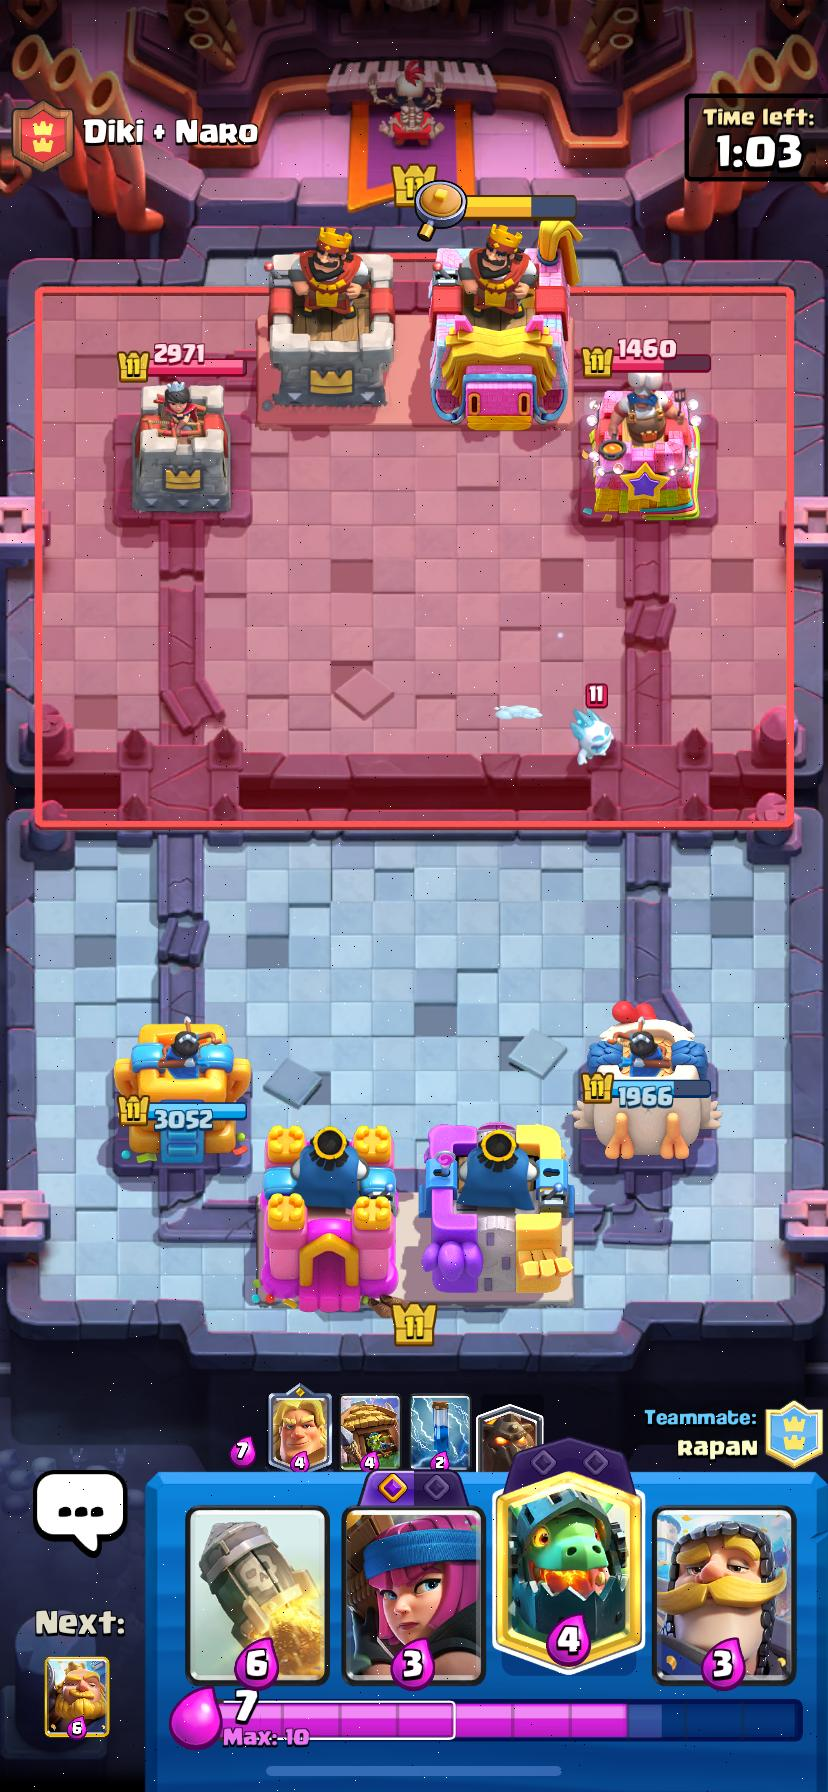EIceSpirit: (571, 682, 621, 771)
EKingTower: (430, 224, 570, 431), (262, 227, 395, 411)
EnemyPanTower: (580, 374, 701, 521)
EnemyPrincessTower: (133, 379, 230, 515)
OwnKingTower: (422, 1122, 573, 1299), (258, 1126, 396, 1312)
OwnPrincessTower: (576, 1002, 719, 1160), (114, 1019, 250, 1167)
